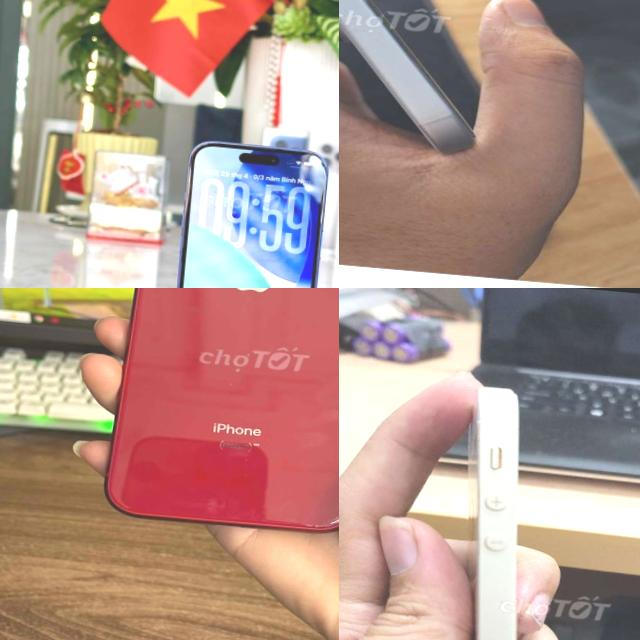scratch: (302, 514, 338, 534)
